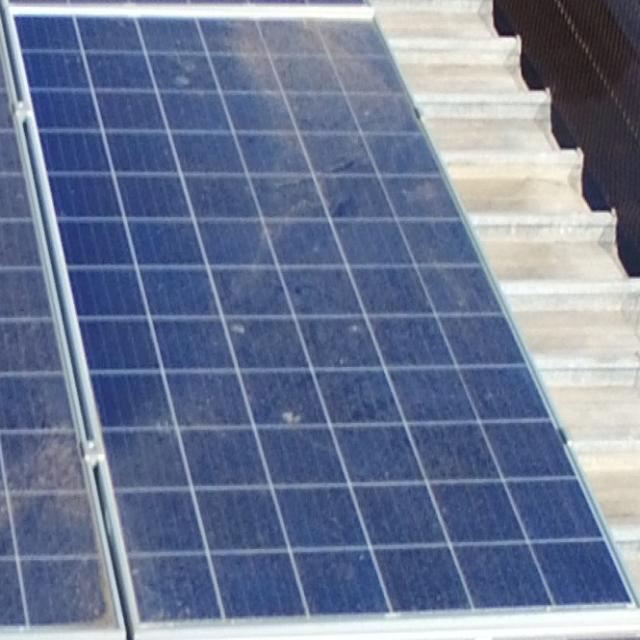Dust: (3, 364, 156, 640), (224, 19, 418, 224)
bird-droppings: (277, 404, 308, 438), (229, 313, 247, 344), (356, 546, 370, 567), (174, 73, 190, 88), (346, 318, 359, 335)
